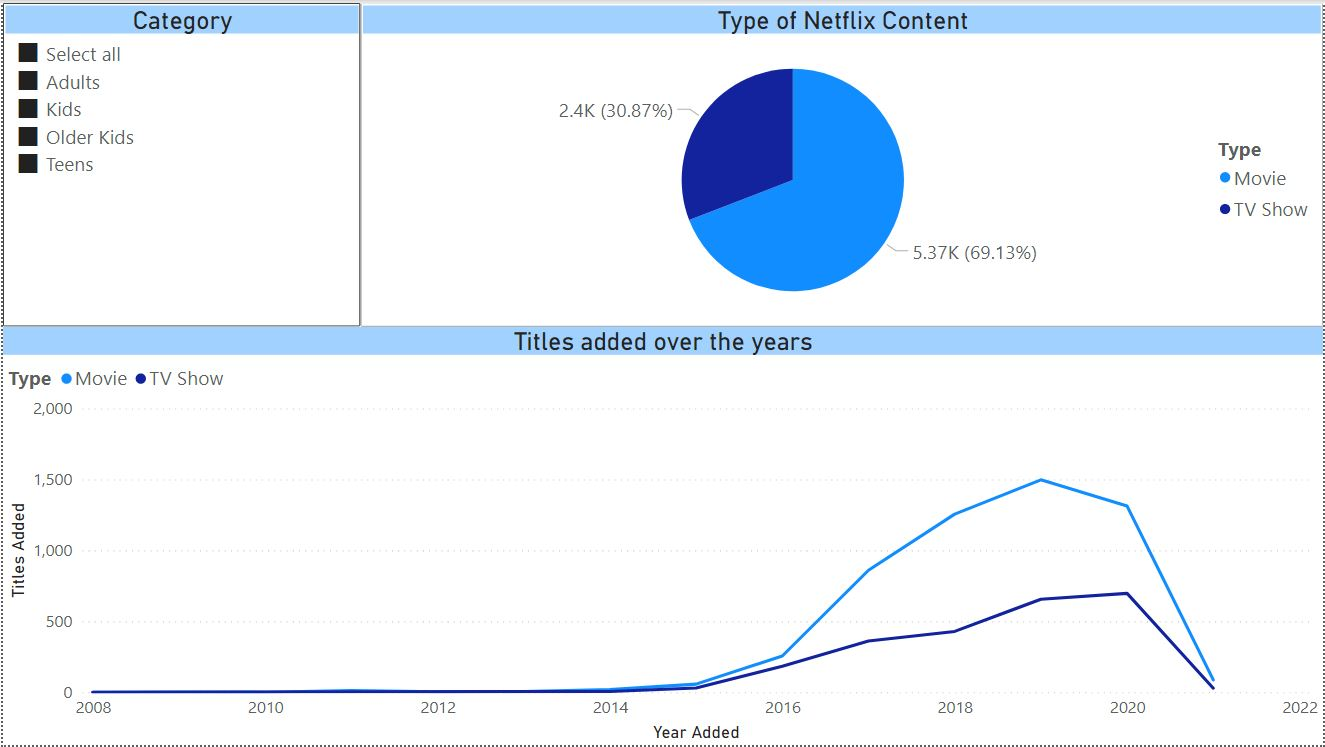

The dashboard page shown, as its layout file describes it:
{"tool":"powerbi","page":{"name":"Content Overview","canvas":[1280,720],"ordinal":0},"visuals":[{"type":"pieChart","title":"Type of Netflix Content","fields":{"Category":["netflix_titles.type"],"Y":["CountNonNull(netflix_titles.Custom)"]},"box":[379.5,38.5,764.4,258.5],"z":0},{"type":"lineChart","title":"Content added over the years","fields":{"Category":["netflix_titles.Year Added"],"Series":["netflix_titles.Type"],"Y":["CountNonNull(netflix_titles.title)"]},"box":[45.4,297,1165.9,380.8],"z":1000},{"type":"slicer","fields":{"Values":["netflix_titles.Category"]},"box":[45.4,38.5,277.7,221.4],"z":2000}]}

Visuals, with their boxes in screenshot pixels (x1, y1, x2, y2), scaled from the page's 1280x720 canvas onto the 1325x747 screenshot:
"Type of Netflix Content" pieChart: region(393, 40, 1184, 308)
"Content added over the years" lineChart: region(47, 308, 1254, 703)
slicer - netflix_titles.Category: region(47, 40, 334, 270)
